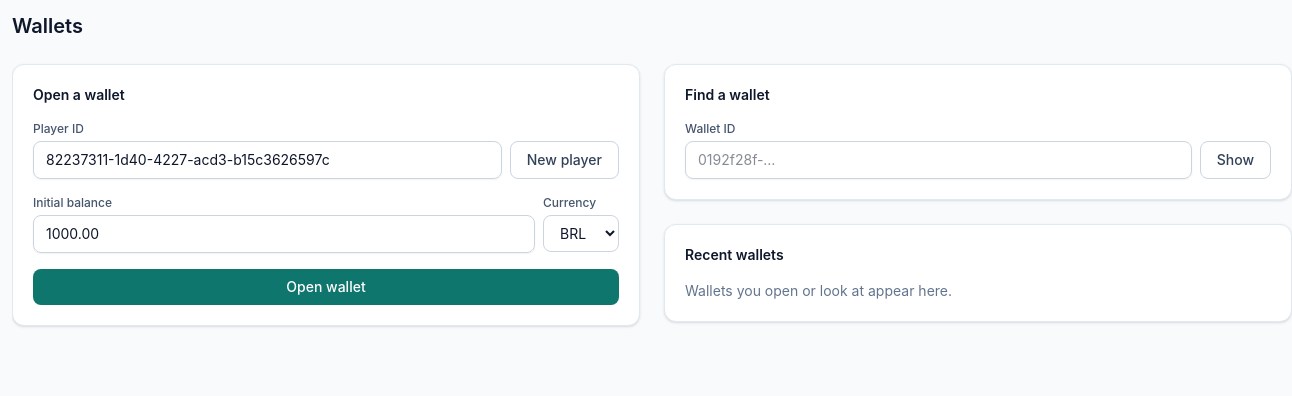
Scenario: WalletsPage › a duplicate player and currency shows the conflict
Click the button "Open wallet" at (326, 287), box left=33, top=269, right=619, bottom=305
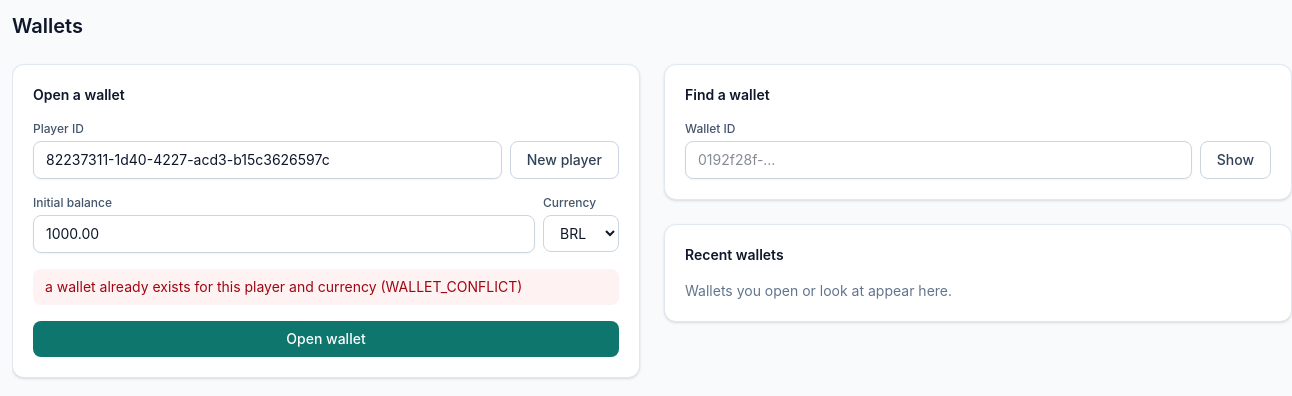
Now the message shows "a wallet already exists for this player and currency", box left=45, top=278, right=522, bottom=295
